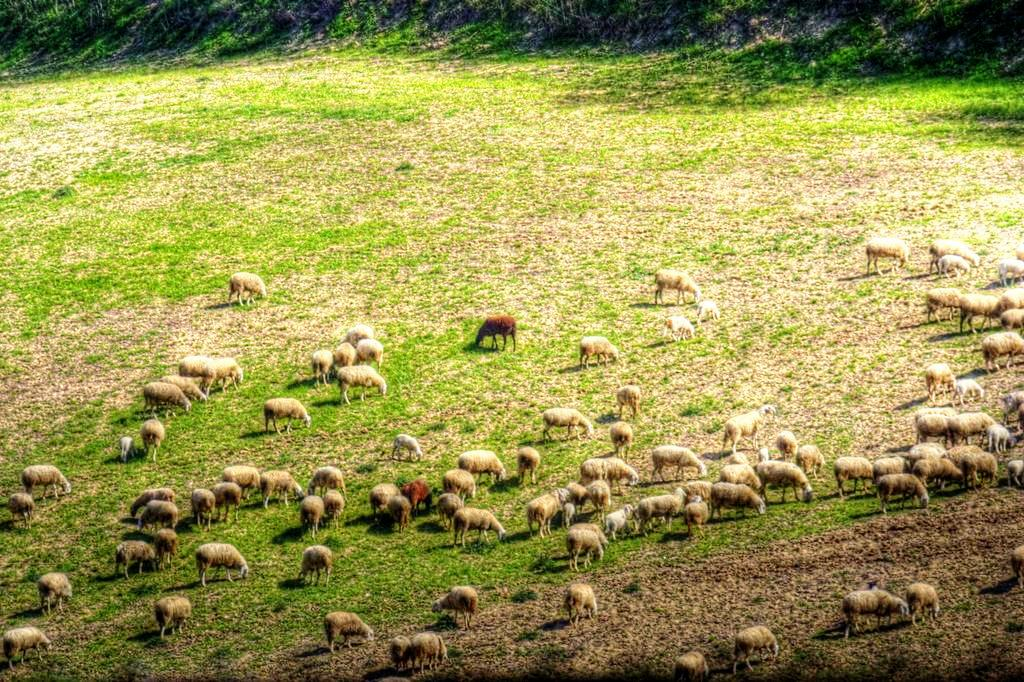Sheep: (839, 589, 910, 634), (753, 458, 815, 506), (720, 403, 777, 452), (708, 480, 770, 520), (192, 543, 251, 585), (452, 506, 508, 550), (1, 623, 57, 667), (731, 623, 781, 672), (943, 444, 999, 487), (323, 610, 381, 651), (258, 396, 319, 434), (650, 444, 710, 482), (640, 486, 688, 533), (334, 363, 389, 404), (148, 596, 200, 638), (20, 462, 71, 504), (429, 587, 481, 628), (876, 472, 932, 510), (832, 454, 877, 501), (928, 238, 982, 277), (652, 267, 702, 309), (538, 405, 593, 443), (456, 449, 510, 486), (958, 289, 1003, 332), (563, 525, 604, 571), (865, 236, 911, 276), (471, 314, 519, 352), (143, 380, 192, 416), (904, 582, 944, 626), (578, 334, 624, 372), (564, 584, 606, 625), (979, 331, 1023, 370), (948, 411, 997, 446), (668, 645, 713, 682), (35, 572, 74, 614), (258, 469, 302, 505), (181, 353, 216, 396), (923, 361, 957, 403), (871, 456, 916, 487), (164, 374, 206, 407), (599, 458, 639, 492), (141, 416, 170, 462), (927, 286, 964, 322), (602, 505, 641, 539), (215, 355, 251, 390), (229, 272, 266, 306), (391, 430, 426, 465), (512, 443, 541, 485), (310, 346, 335, 394), (608, 423, 638, 462), (616, 384, 646, 420), (795, 443, 825, 478), (355, 336, 387, 368), (662, 313, 696, 343), (937, 254, 973, 282), (985, 420, 1017, 451), (300, 496, 323, 538), (953, 375, 983, 405), (774, 428, 797, 462), (113, 433, 137, 465), (695, 301, 723, 324)
